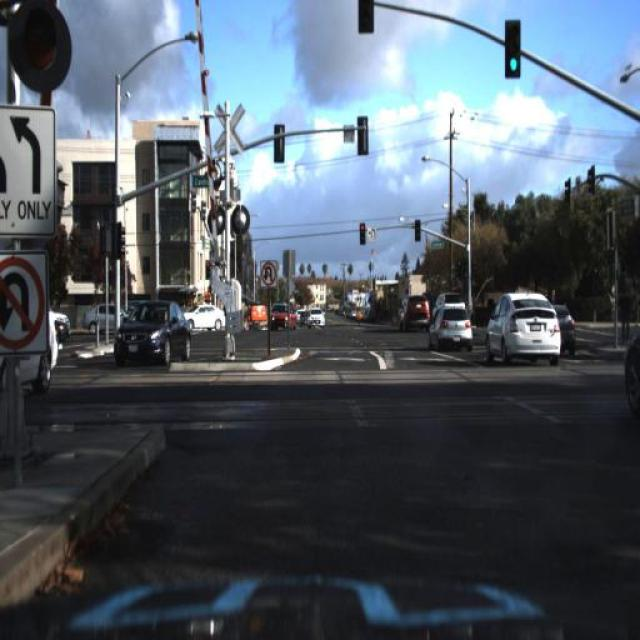car: (99, 294, 200, 380), (483, 284, 563, 378), (482, 286, 562, 368), (110, 299, 196, 367), (426, 302, 482, 358), (427, 300, 474, 354), (81, 300, 145, 338), (181, 292, 230, 338), (177, 300, 228, 336), (558, 289, 578, 371), (397, 289, 431, 332), (400, 290, 434, 332), (268, 302, 298, 339), (52, 298, 73, 342), (432, 293, 456, 315), (435, 288, 464, 306), (307, 304, 325, 332), (297, 304, 308, 328)
trafficLight-Green: (10, 5, 80, 104), (504, 18, 521, 77), (358, 214, 368, 248), (412, 214, 422, 241)
trafficLight-GreenLeft: (496, 12, 529, 87), (459, 250, 470, 280)
